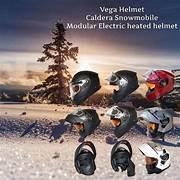Helmet: (138, 107, 173, 140), (65, 109, 100, 141), (138, 141, 169, 173), (105, 107, 136, 137), (110, 70, 138, 102), (146, 70, 175, 100), (111, 141, 134, 175), (72, 71, 100, 98), (74, 141, 95, 174)
